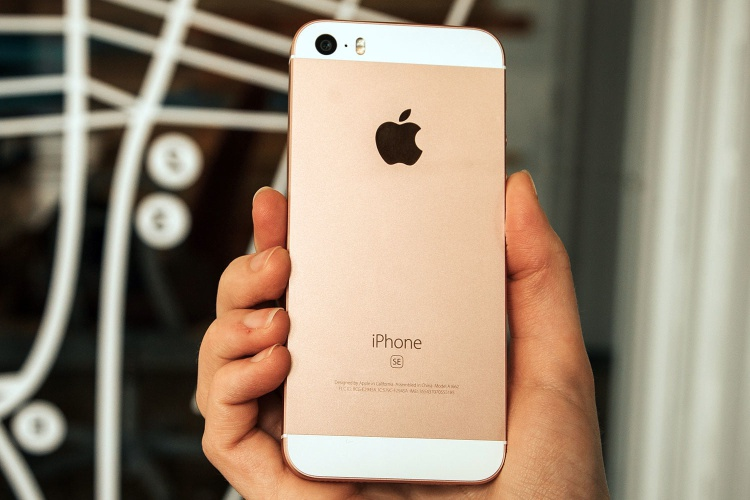apple: (365, 100, 440, 188)
